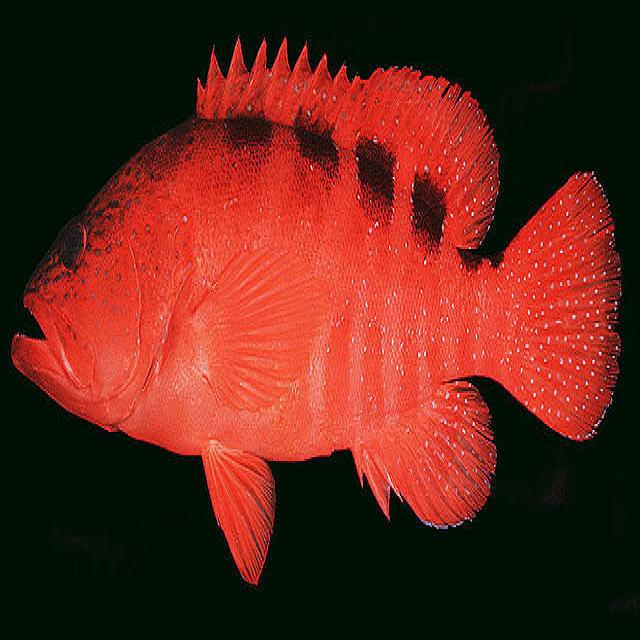ikan: (10, 31, 623, 586)
